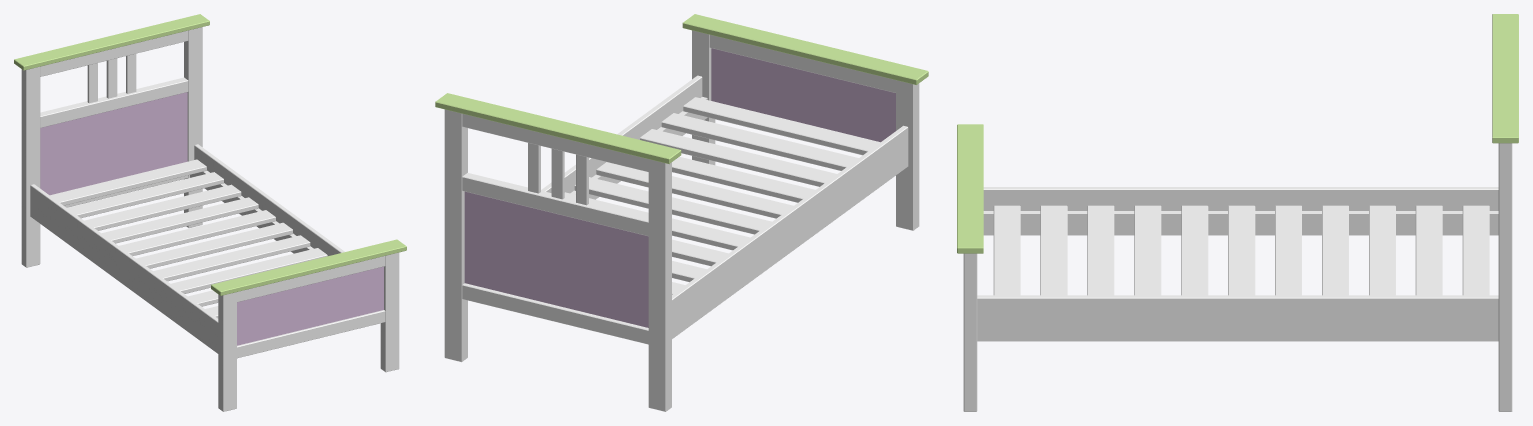
The model's file is Bedroom_Bed_Frame.FBX.
The picture shows the model from 3 angles, left to right: view 1: azimuth 30°, elevation 25°; view 2: azimuth 150°, elevation 25°; view 3: azimuth 270°, elevation 25°; orthographic projection. The views are drawn at different scales.
Visible parts, largest first — view 1: Bedroom_Bed_Frame; view 2: Bedroom_Bed_Frame; view 3: Bedroom_Bed_Frame.
Boxes of the visible parts, box(x1,y1,x2,y2) form: Bedroom_Bed_Frame: box(14, 14, 406, 411); Bedroom_Bed_Frame: box(435, 14, 928, 411); Bedroom_Bed_Frame: box(957, 14, 1518, 411).
Size of the model in its own units: 110 by 115 by 211.
Materials: 1 (1 with a texture image).
